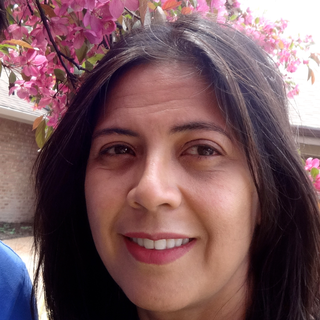eye: (178, 139, 227, 164), (97, 139, 142, 163)
